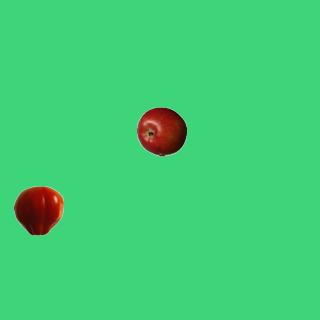Apple Braeburn: (136, 106, 186, 156)
Tomato 1: (13, 185, 63, 235)
